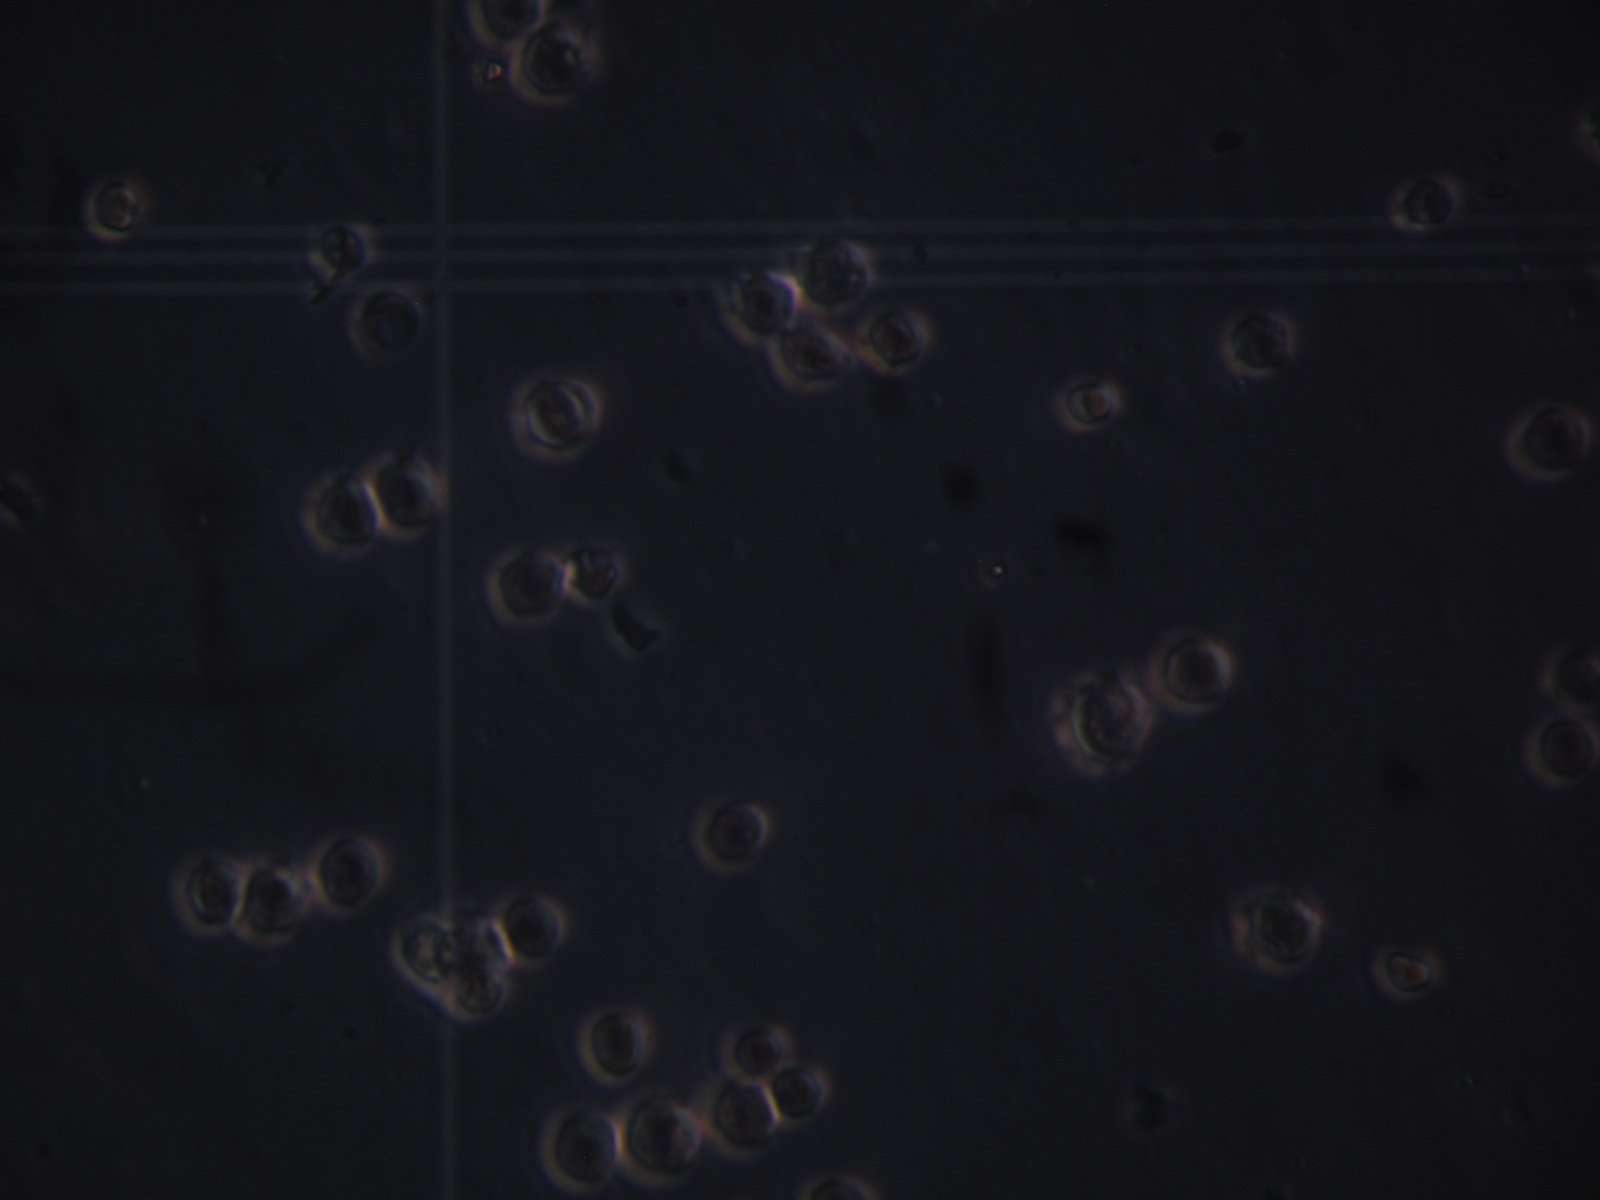hemo: (619, 1094, 704, 1189), (1499, 398, 1592, 483), (1233, 886, 1322, 973), (513, 374, 601, 459), (511, 21, 601, 105), (302, 474, 384, 562), (1153, 626, 1235, 715), (305, 832, 389, 916), (488, 541, 569, 628), (1071, 674, 1151, 763), (367, 456, 449, 541), (544, 1105, 621, 1195), (703, 1074, 782, 1158), (716, 263, 801, 342), (771, 316, 855, 395), (238, 856, 309, 945), (174, 850, 246, 937), (797, 236, 877, 313), (489, 889, 564, 968), (1524, 712, 1600, 792), (576, 1005, 649, 1087), (349, 285, 427, 359), (695, 795, 769, 874), (859, 299, 932, 376), (1221, 306, 1296, 379), (391, 908, 456, 989), (557, 534, 627, 608), (717, 1020, 794, 1084), (1393, 166, 1461, 236), (433, 914, 500, 984), (763, 1063, 831, 1129), (305, 218, 377, 281), (1368, 942, 1439, 1005), (1541, 639, 1600, 710), (465, 1, 548, 50), (86, 178, 145, 245), (1060, 372, 1121, 432), (447, 969, 508, 1022)
